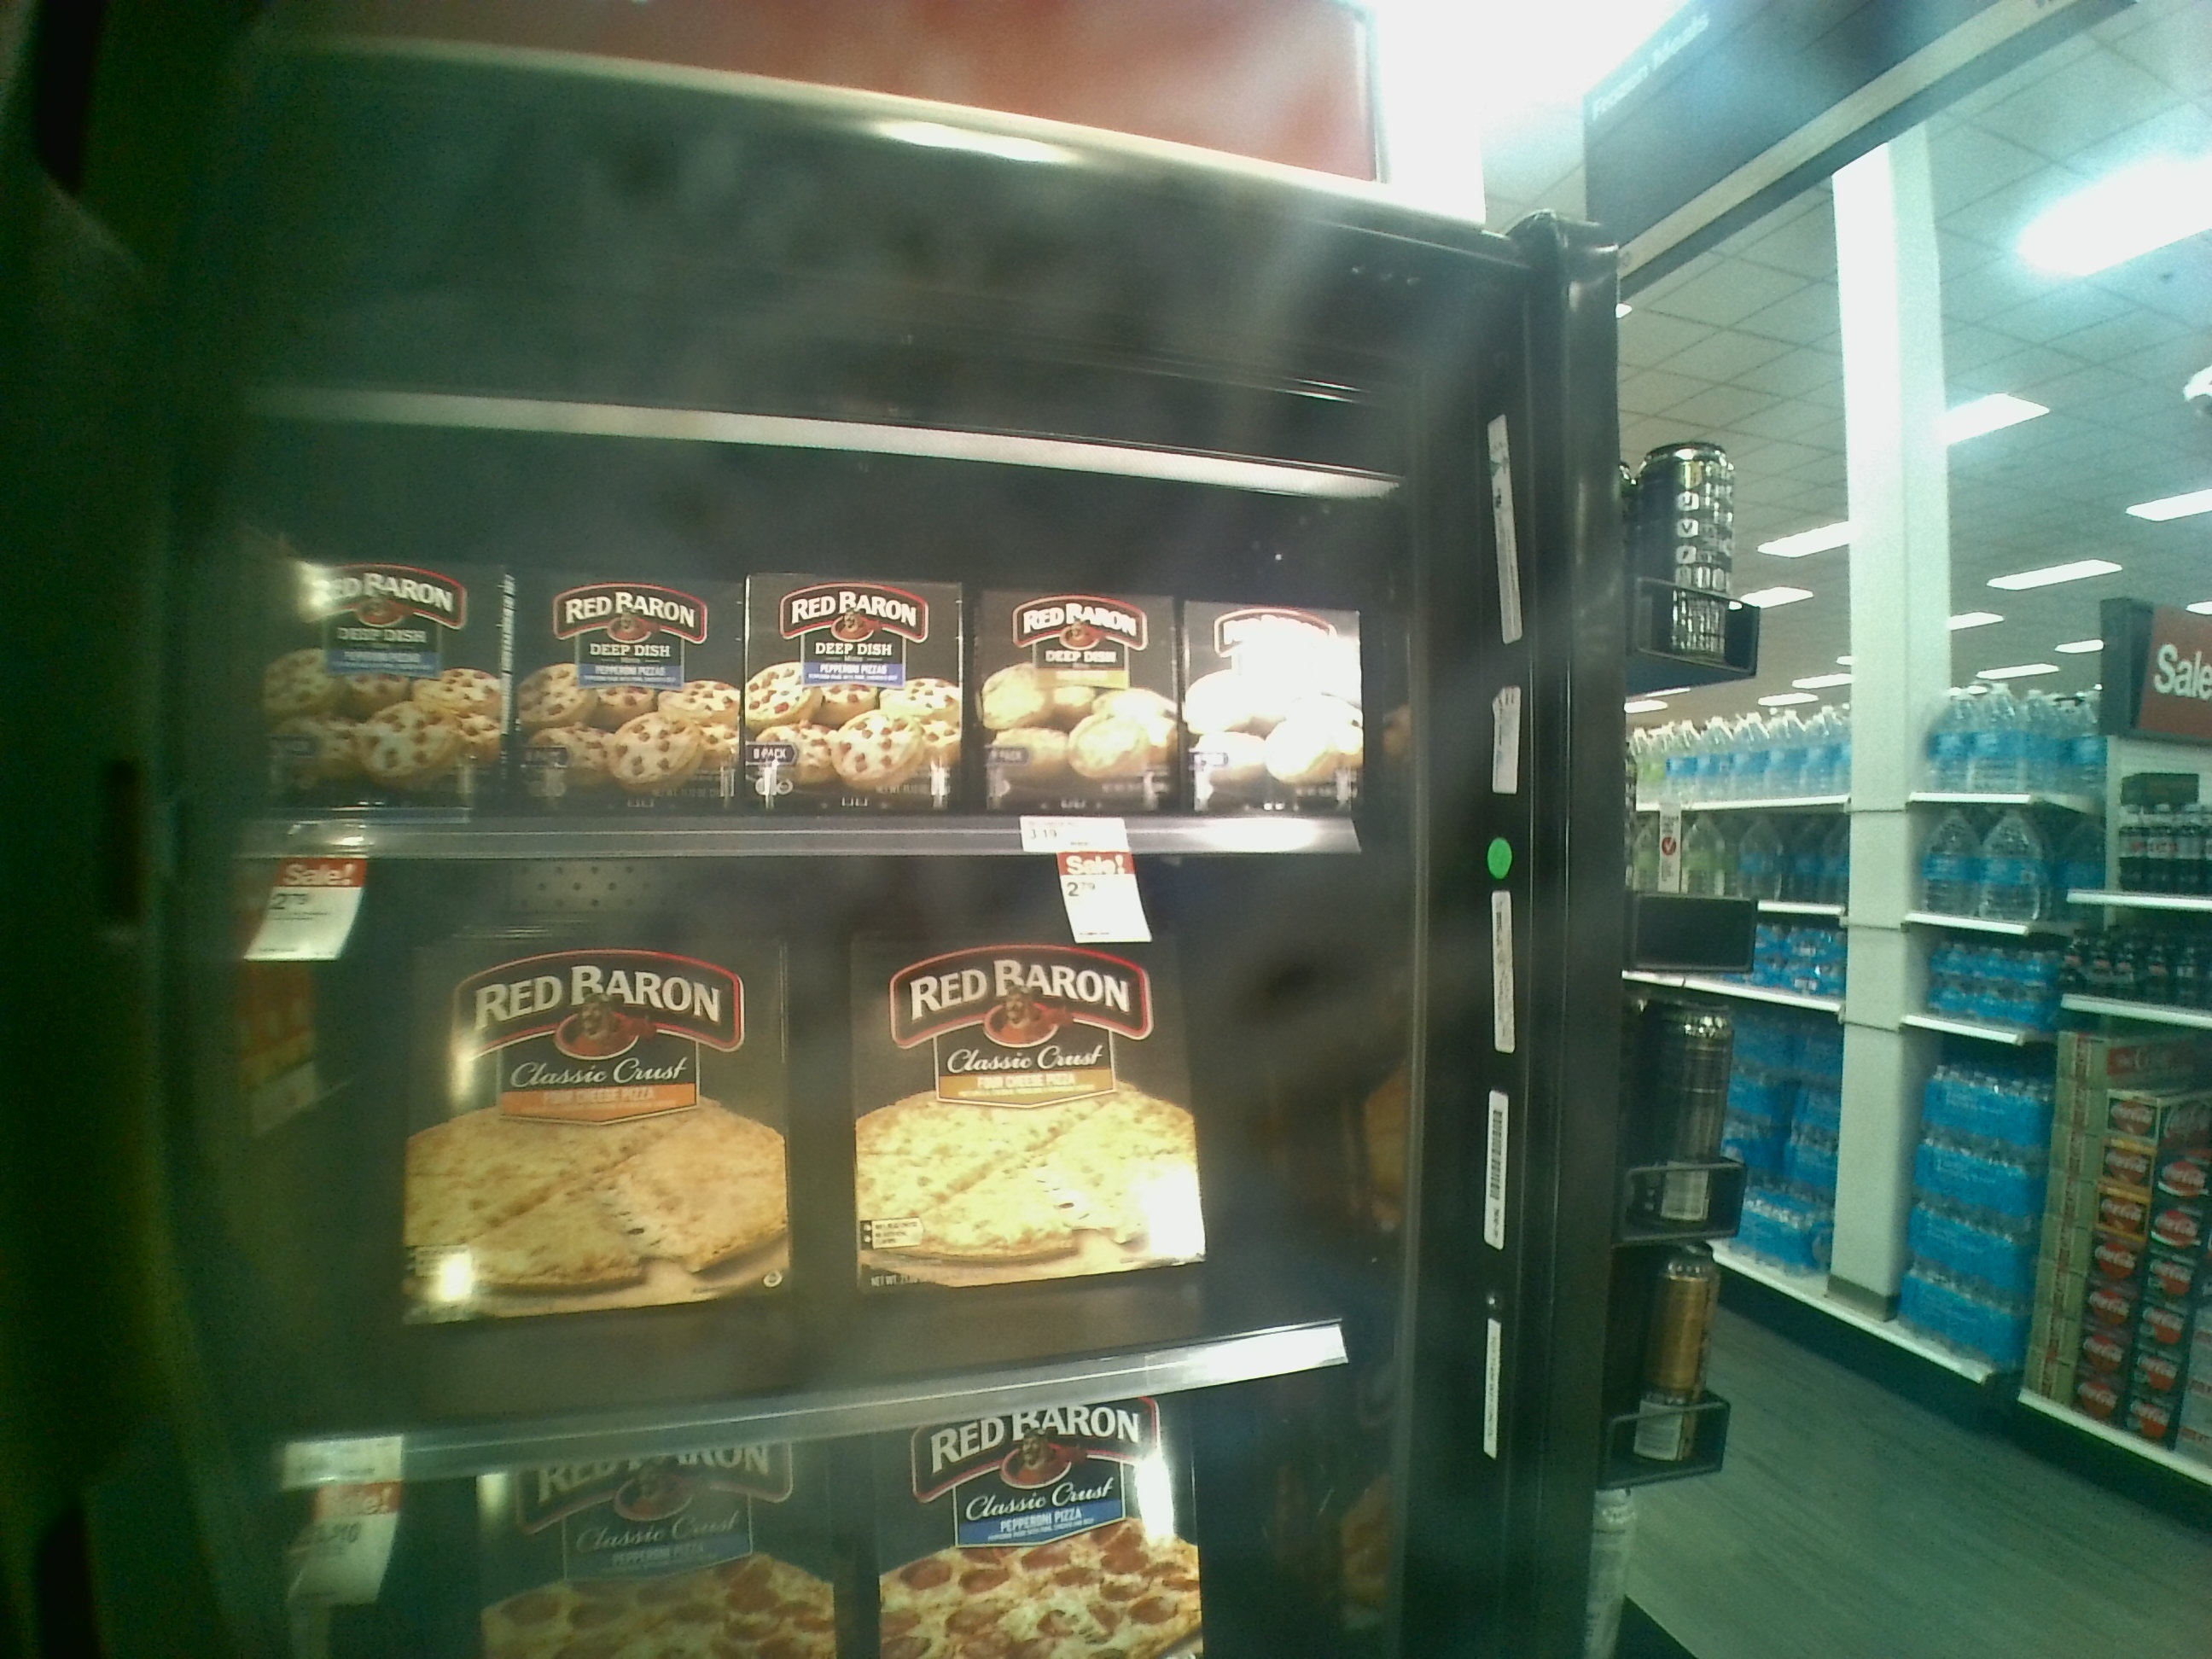shelf: (233, 856, 1385, 1462), (216, 401, 1359, 852)
